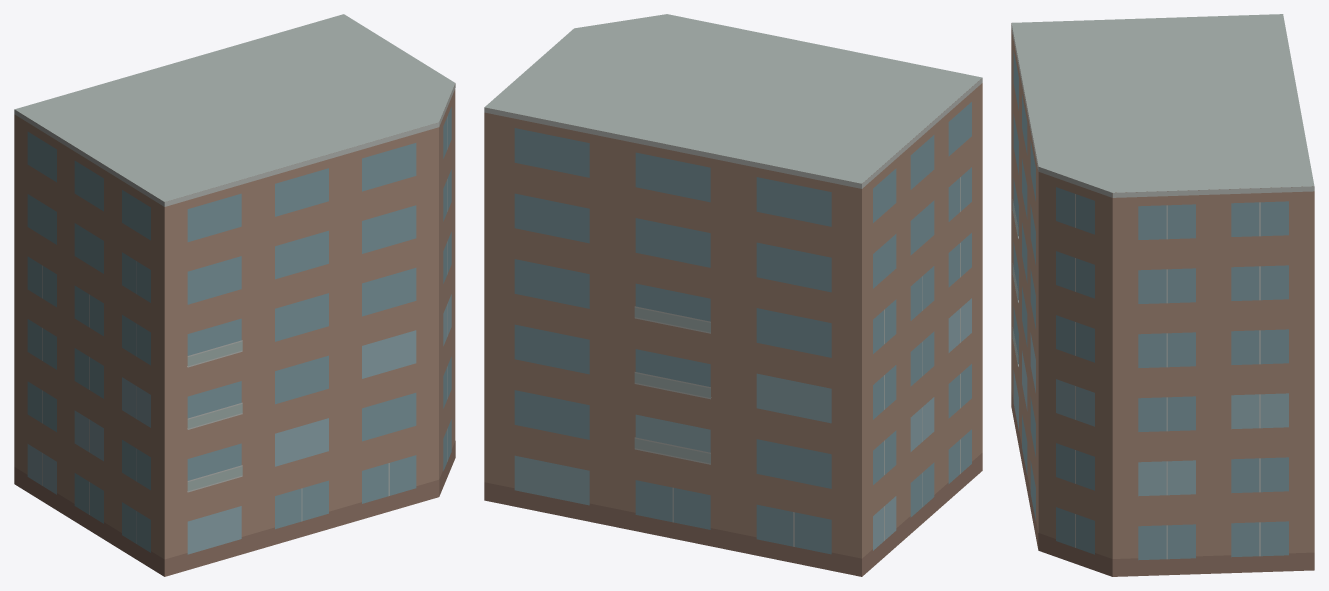
File: survey-upis-32735903.glb
3 views of the same model, side by side, from view 1: azimuth 30°, elevation 25°; view 2: azimuth 150°, elevation 25°; view 3: azimuth 270°, elevation 25° (orthographic). The views are drawn at different scales.
Parts seen in each view (by area): view 1: survey-upis-32735903.tmp; view 2: survey-upis-32735903.tmp; view 3: survey-upis-32735903.tmp.
Boxes of the visible parts, box(x1,y1,x2,y2) form: survey-upis-32735903.tmp: box(14, 14, 455, 576); survey-upis-32735903.tmp: box(484, 14, 982, 576); survey-upis-32735903.tmp: box(1011, 14, 1314, 576).
Bounding box in the file's own units: 18.49 × 18.5 × 13.24.
